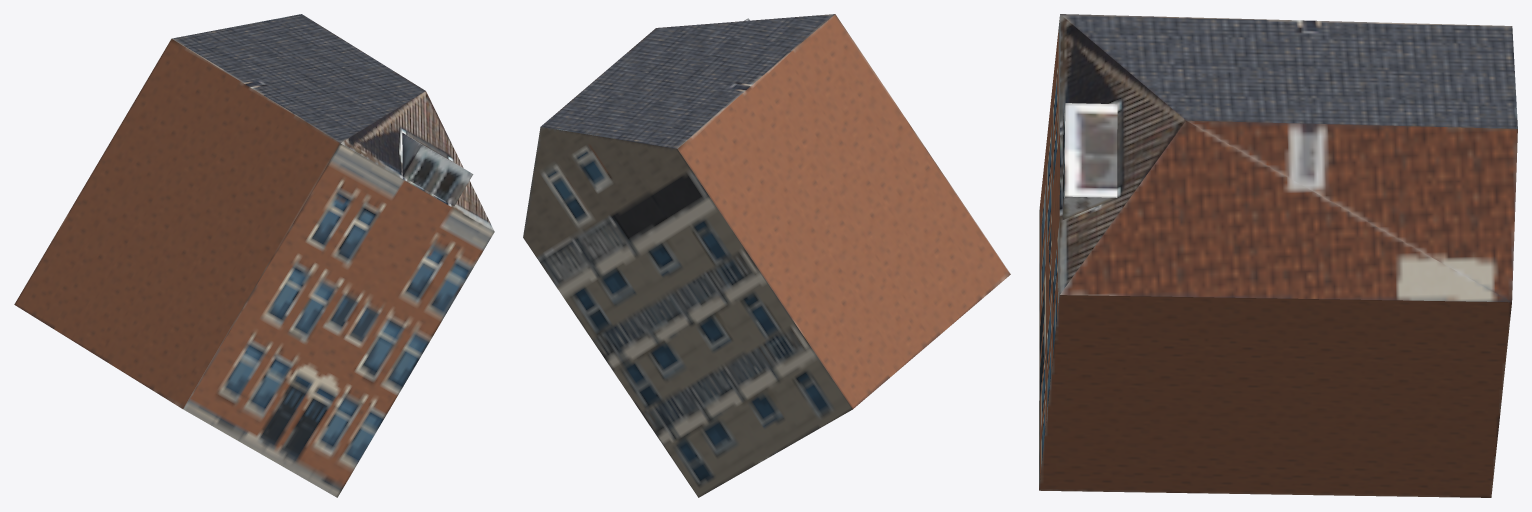
3 renders of one model, left to right at view 1: azimuth 30°, elevation 25°; view 2: azimuth 150°, elevation 25°; view 3: azimuth 270°, elevation 25°, orthographic. The views are drawn at different scales.
Visible parts, largest first — view 1: BAG_0599100000760398 (×2); view 2: BAG_0599100000760398; view 3: BAG_0599100000760398 (×3).
Part boxes in pixels (bbox=[...]): BAG_0599100000760398 (×2): bbox=[14, 14, 494, 497]; BAG_0599100000760398: bbox=[523, 14, 1010, 497]; BAG_0599100000760398 (×3): bbox=[1039, 14, 1517, 497].
Bounding box in the file's own units: 13.58 × 14.2 × 12.38.
Materials: 1 (1 with a texture image).
